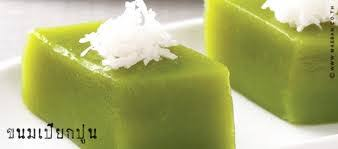kanompiakpoon: (20, 10, 236, 149), (200, 1, 337, 116)
